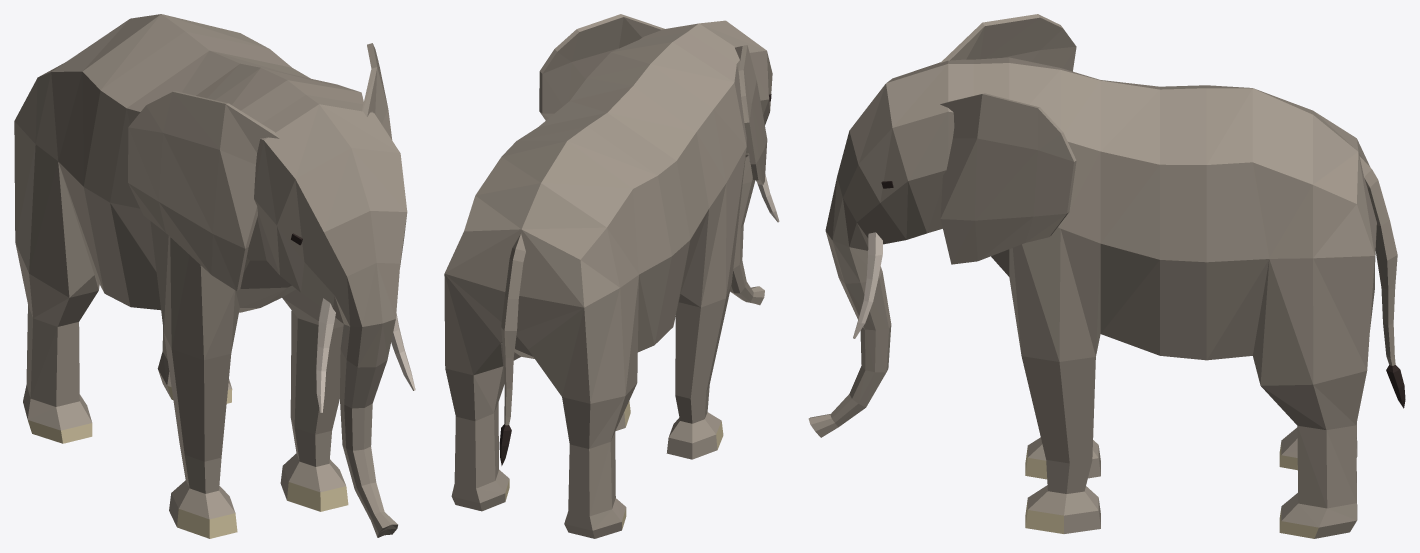
Rendered from elephant.glb.
3 views of the same model, side by side, from view 1: azimuth 30°, elevation 25°; view 2: azimuth 150°, elevation 25°; view 3: azimuth 270°, elevation 25° (orthographic). The views are drawn at different scales.
Bounding box in the file's own units: 1.12 × 1.87 × 2.31.
1 material, 1 textured.
